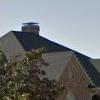Chimney: (17, 15, 51, 39)
